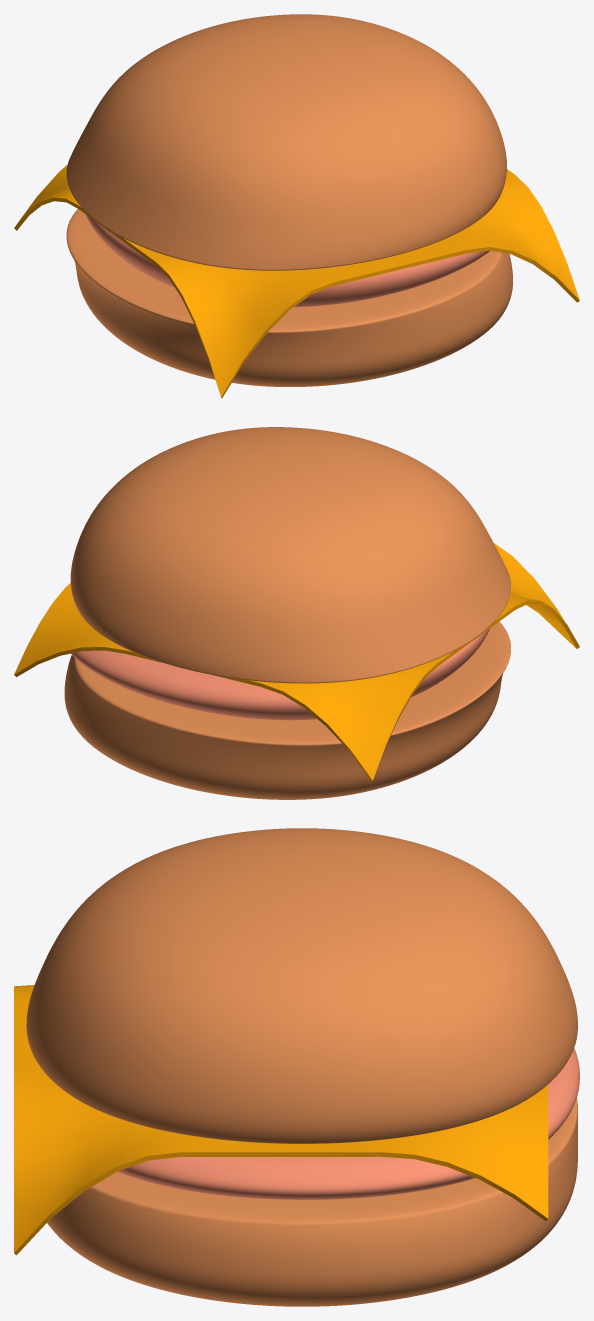
Rendered from hamburger2.glb.
3 views of the same model, one above another, from view 1: azimuth 30°, elevation 25°; view 2: azimuth 150°, elevation 25°; view 3: azimuth 270°, elevation 25° (orthographic). The views are drawn at different scales.
Parts seen in each view (by area): view 1: Cube.002, Cube.001, Plane, Cube; view 2: Cube.002, Cube.001, Plane, Cube; view 3: Cube.002, Cube.001, Plane, Cube.
Part boxes in pixels (x1=…): Cube.002: x1=66, y1=14, x2=506, y2=270; Cube.001: x1=66, y1=209, x2=512, y2=386; Plane: x1=14, y1=165, x2=579, y2=398; Cube: x1=85, y1=214, x2=489, y2=307; Cube.002: x1=70, y1=427, x2=510, y2=683; Cube.001: x1=64, y1=621, x2=510, y2=799; Plane: x1=14, y1=543, x2=579, y2=781; Cube: x1=71, y1=629, x2=489, y2=720; Cube.002: x1=26, y1=828, x2=577, y2=1143; Cube.001: x1=47, y1=1098, x2=577, y2=1306; Plane: x1=14, y1=985, x2=548, y2=1255; Cube: x1=117, y1=1048, x2=579, y2=1199.
Bounding box in the file's own units: 9.04 × 6.14 × 8.89.
